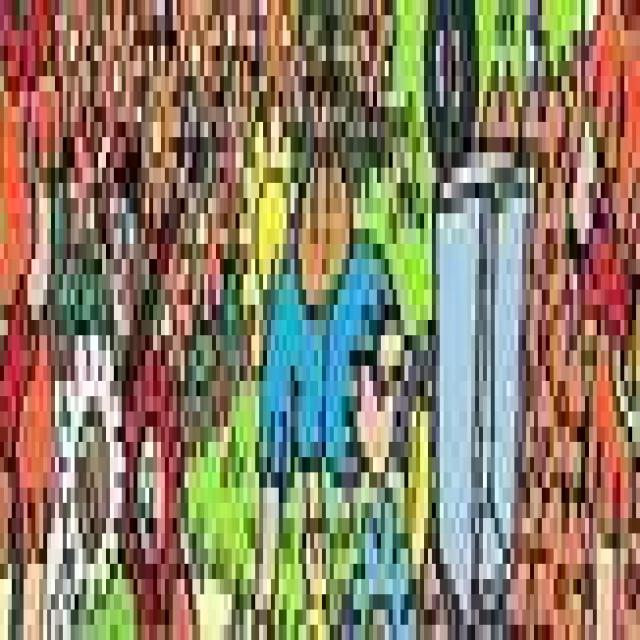waldo: (90, 107, 142, 350)
